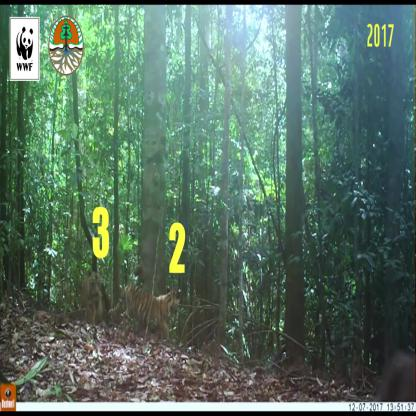Tiger: (117, 274, 187, 345), (76, 259, 106, 321)
